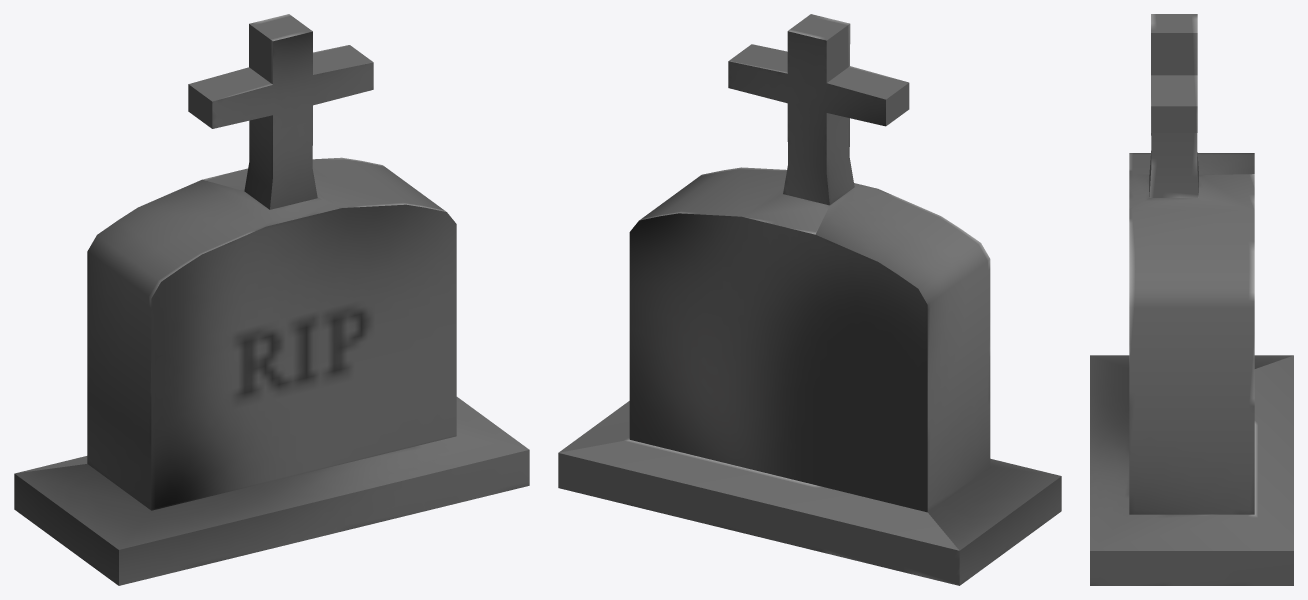
Rendered from Tumulo_3.glb.
3 views of the same model, side by side, from view 1: azimuth 30°, elevation 25°; view 2: azimuth 150°, elevation 25°; view 3: azimuth 270°, elevation 25° (orthographic). The views are drawn at different scales.
Visible parts, largest first — view 1: Tumulo.3; view 2: Tumulo.3; view 3: Tumulo.3.
Boxes of the visible parts, <box> form: Tumulo.3: <box>14,14,529,585</box>; Tumulo.3: <box>558,14,1061,585</box>; Tumulo.3: <box>1090,14,1293,585</box>.
Size of the model in its own units: 0.4942 by 0.5481 by 0.2177.
1 material, 1 textured.
